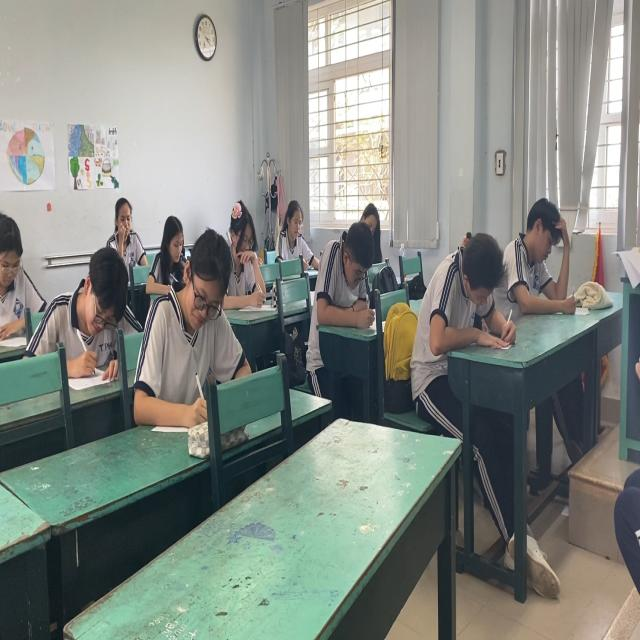not_cheating: (418, 221, 511, 355), (170, 234, 248, 386), (48, 244, 137, 369), (311, 218, 381, 330), (508, 198, 572, 316), (0, 212, 48, 346), (222, 201, 266, 296), (96, 191, 148, 261), (278, 194, 316, 256), (155, 212, 187, 270), (359, 198, 383, 244)
